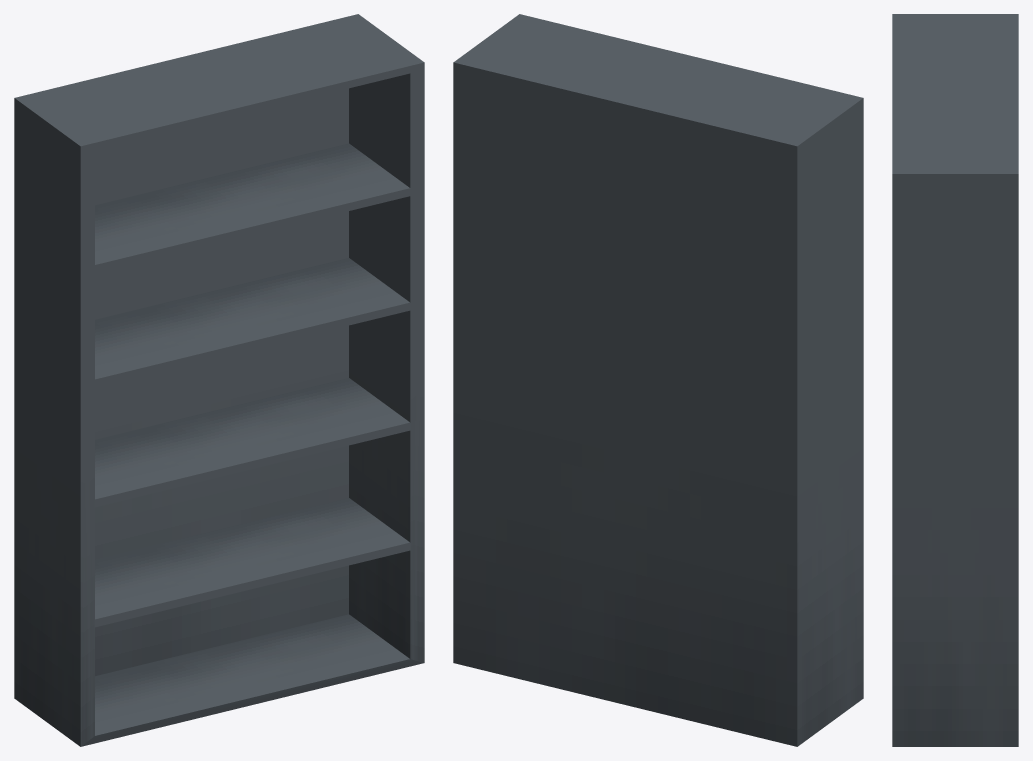
File: shelf.fbx
3 views of the same model, side by side, from view 1: azimuth 30°, elevation 25°; view 2: azimuth 150°, elevation 25°; view 3: azimuth 270°, elevation 25° (orthographic). The views are drawn at different scales.
Visible parts, largest first — view 1: shelf1; view 2: shelf1; view 3: shelf1.
Boxes of the visible parts, x1=… form: shelf1: x1=14, y1=14, x2=424, y2=746; shelf1: x1=453, y1=14, x2=863, y2=746; shelf1: x1=892, y1=14, x2=1018, y2=746.
Bounding box in the file's own units: 91.44 × 153 × 30.48.
